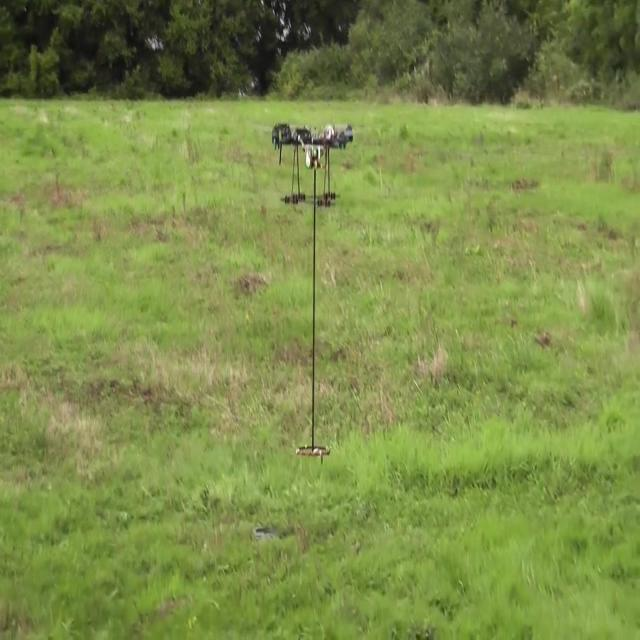UAV: (272, 122, 353, 209)
